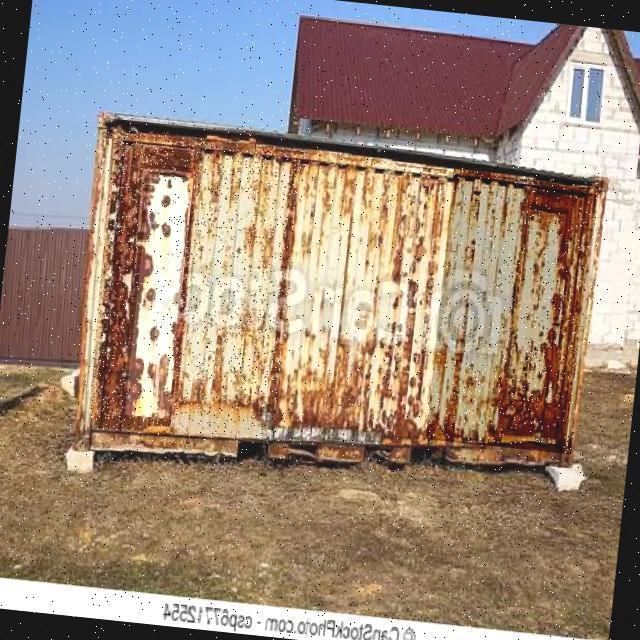Rust: (85, 130, 304, 447), (425, 169, 599, 457), (122, 174, 193, 419)
